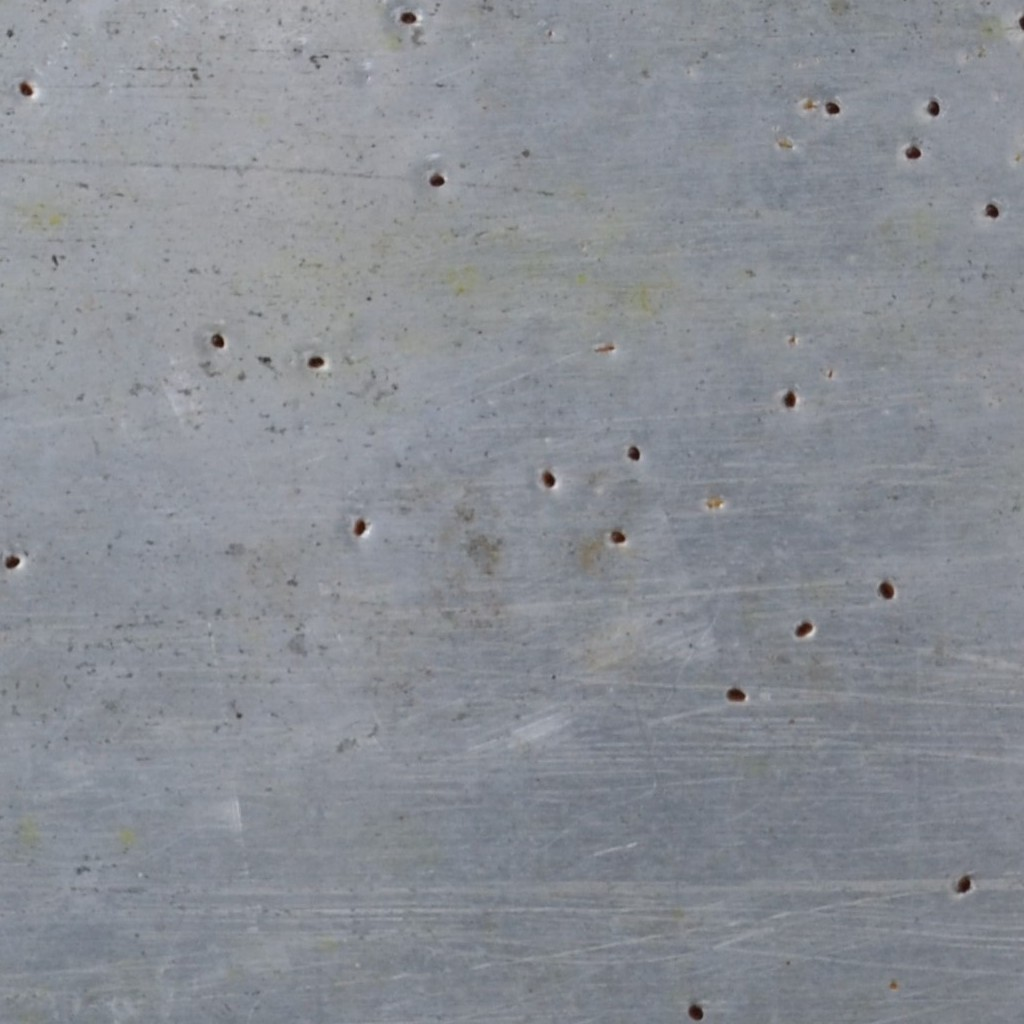varroa: (950, 869, 977, 900), (722, 680, 751, 708), (790, 617, 816, 642), (778, 386, 801, 413), (874, 576, 897, 602), (540, 461, 559, 491), (921, 96, 942, 120), (3, 550, 23, 574), (901, 141, 923, 162), (822, 97, 843, 117), (209, 328, 229, 349), (686, 1000, 705, 1022), (607, 526, 626, 547), (426, 170, 445, 190), (351, 517, 370, 537), (397, 8, 418, 26), (982, 201, 1000, 221), (625, 444, 643, 464), (18, 79, 35, 100), (306, 355, 326, 372), (1017, 12, 1023, 36)
